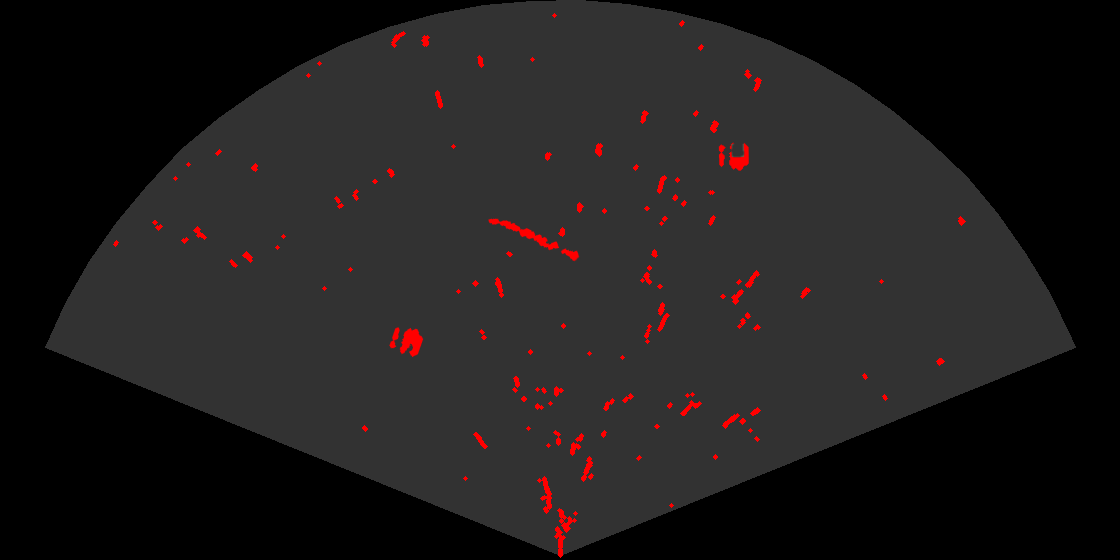ball: (388, 326, 425, 359), (717, 141, 750, 172)
chain: (487, 217, 581, 263)
